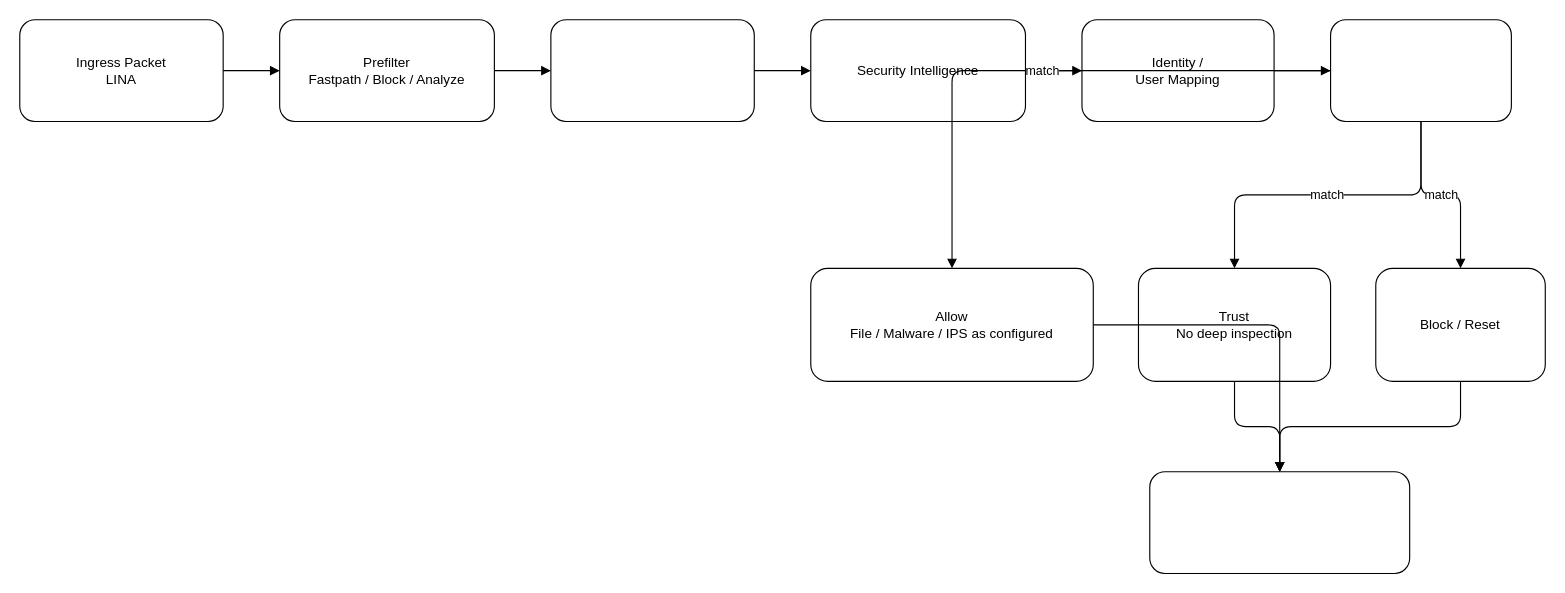
The diagram is 1565 pixels wide and 593 high, and some of its shapes have lost their labels. The centre of each missing label's shape, as x and y in pixels:
"ACP Rules" belongs at (x=1420, y=70).
"Decryption (optional)" belongs at (x=652, y=70).
"LINA final disposition forward or drop" belongs at (x=1279, y=522).
